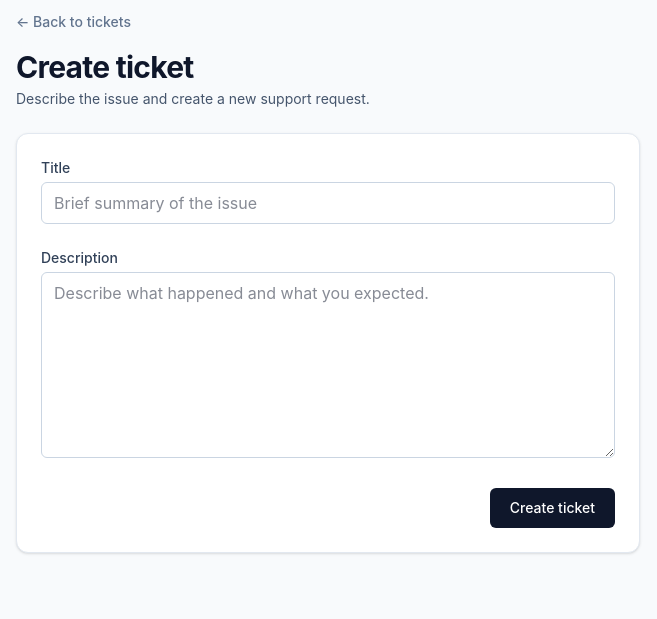
CreateTicketPage › shows validation errors for an empty form
Click the button "Create ticket" at (552, 508), box [490,488,615,528]
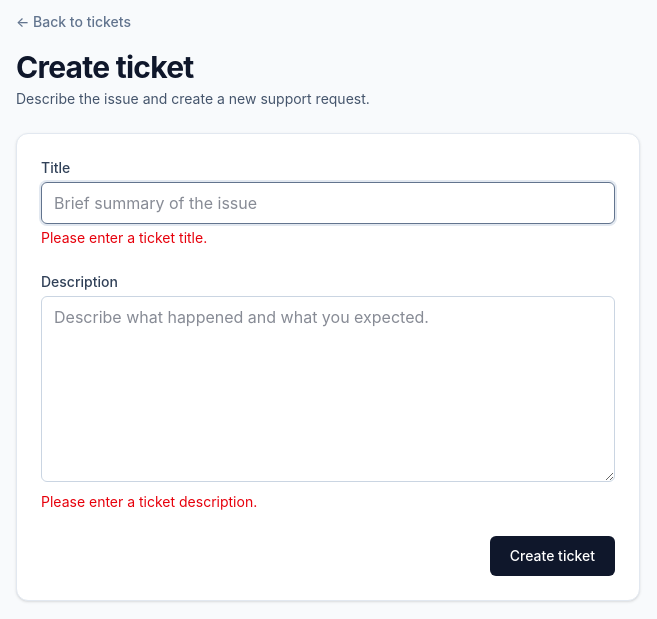
Check: the text "Please enter a ticket title." is shown, box [41,229,207,246]
Check: the text "Please enter a ticket description." is shown, box [41,493,257,510]
